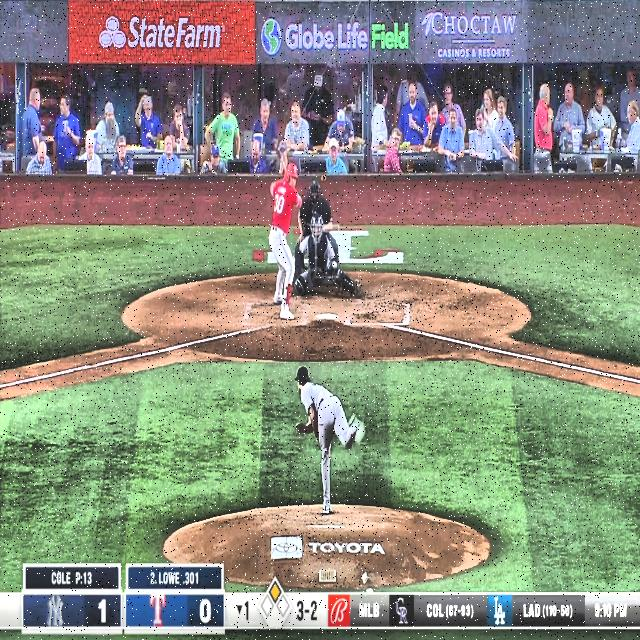baseball: (332, 260, 338, 270)
